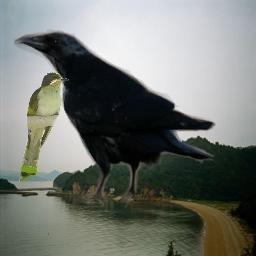Crow: (14, 29, 216, 212)
Cuckoo: (19, 72, 69, 184)
